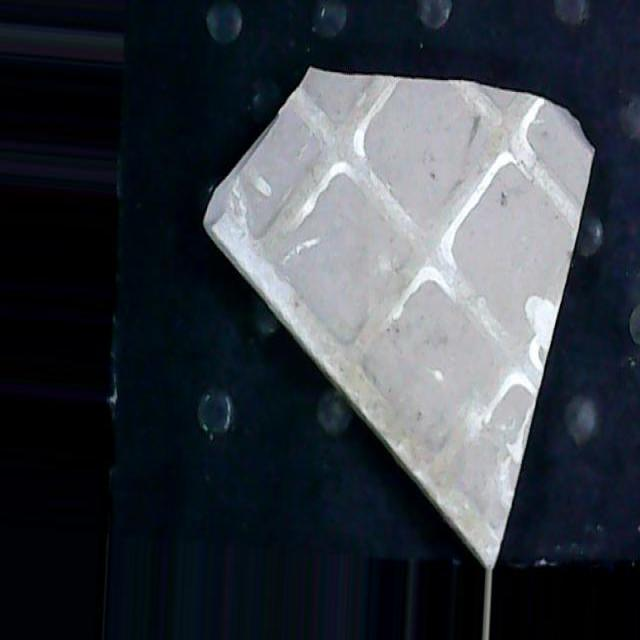-Other waste - ceramic-: (200, 64, 596, 566)
